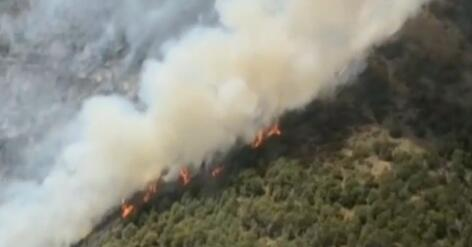fire: (119, 180, 156, 220), (252, 122, 281, 148), (174, 160, 195, 189), (209, 162, 228, 177)
yanwu: (1, 0, 423, 246)
